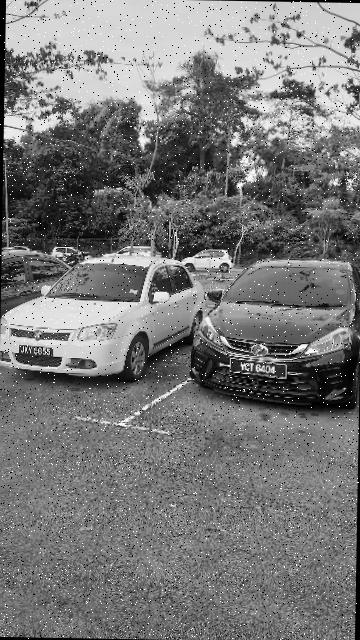License_Plate: (229, 356, 290, 381), (18, 345, 56, 358)
car: (5, 243, 210, 388), (189, 253, 360, 411)
